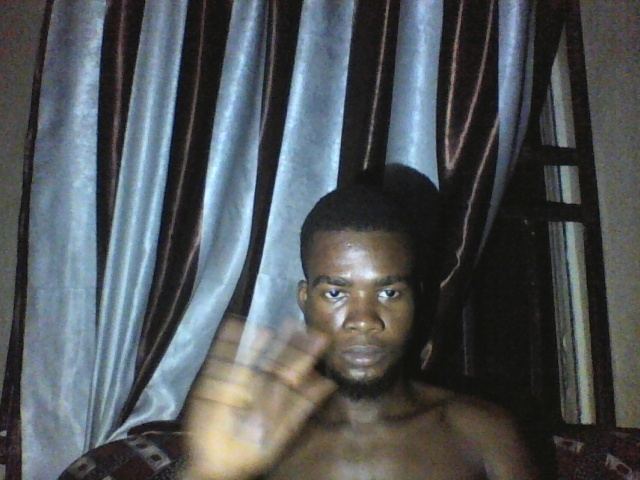i love you: (183, 292, 331, 480)
